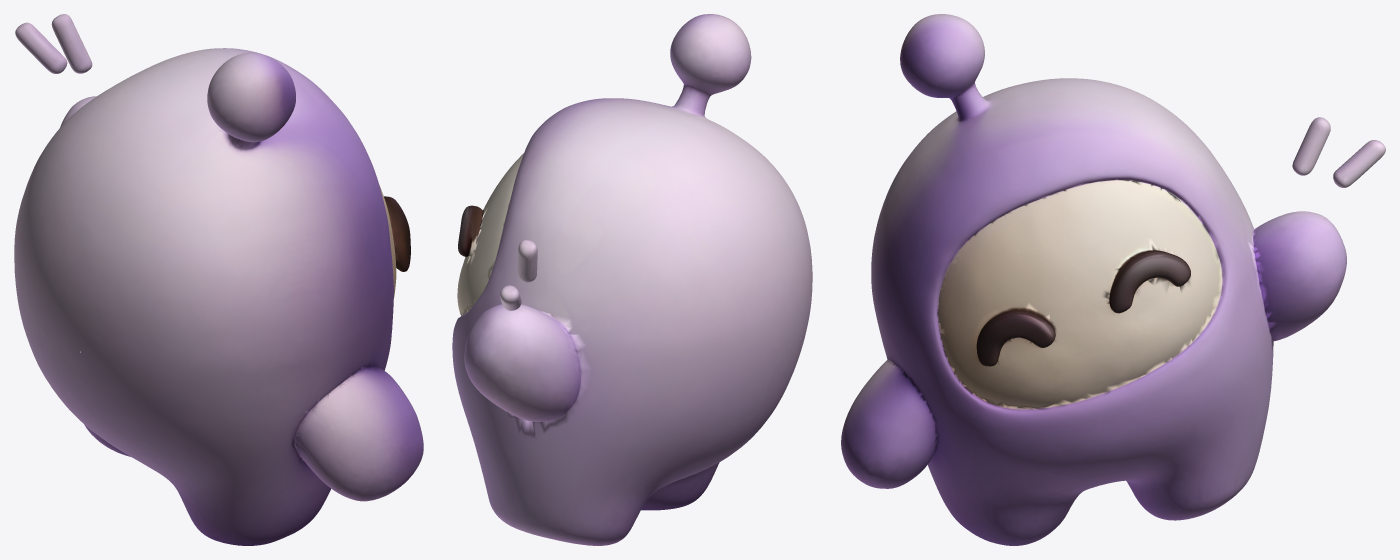
The model's file is mochi-waving.glb.
The picture shows the model from 3 angles, left to right: view 1: azimuth 30°, elevation 25°; view 2: azimuth 150°, elevation 25°; view 3: azimuth 270°, elevation 25°; orthographic projection. The views are drawn at different scales.
Visible parts, largest first — view 1: tripo_node_fd20c689-5ef8-4028-b3fc-665ae1ca332c; view 2: tripo_node_fd20c689-5ef8-4028-b3fc-665ae1ca332c; view 3: tripo_node_fd20c689-5ef8-4028-b3fc-665ae1ca332c.
Part boxes in pixels (x1,y1,x2,y2): tripo_node_fd20c689-5ef8-4028-b3fc-665ae1ca332c: (14,14,423,545); tripo_node_fd20c689-5ef8-4028-b3fc-665ae1ca332c: (452,14,812,545); tripo_node_fd20c689-5ef8-4028-b3fc-665ae1ca332c: (841,14,1385,545).
Size of the model in its own units: 0.6758 by 0.9752 by 0.9799.
Materials: 1 (1 with a texture image).
